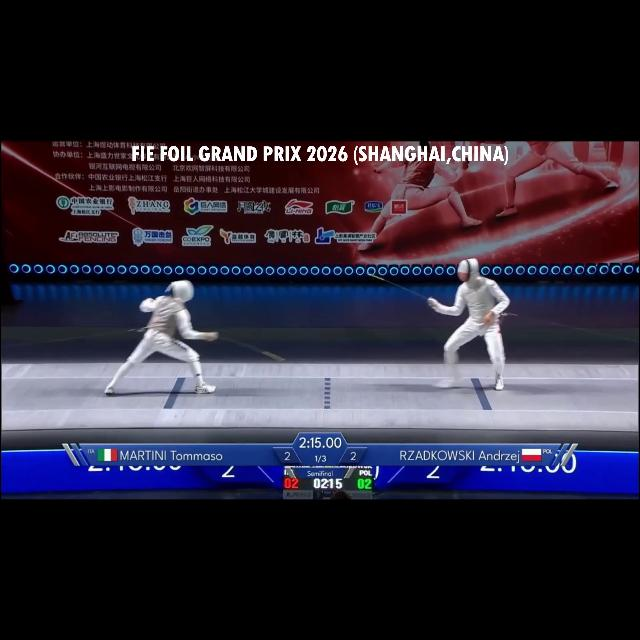blade: (208, 328, 290, 366), (364, 268, 438, 310)
